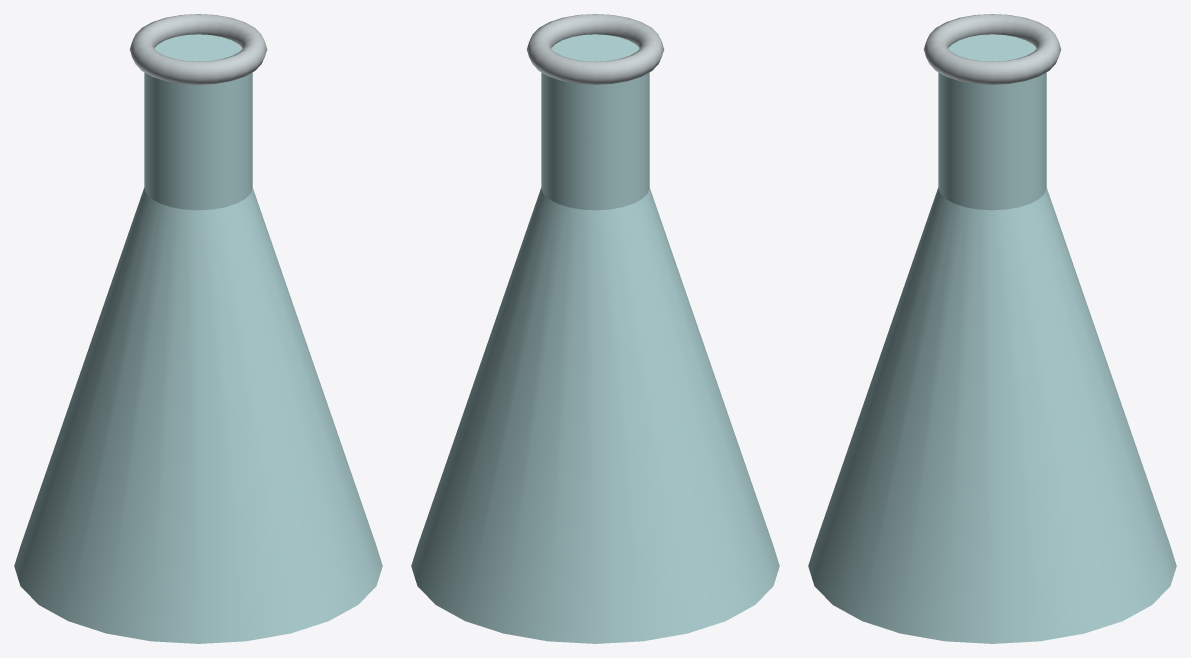
Rendered from Erlenmeyer_Flask.fbx.
The picture shows the model from 3 angles, left to right: view 1: azimuth 30°, elevation 25°; view 2: azimuth 150°, elevation 25°; view 3: azimuth 270°, elevation 25°; orthographic projection.
Parts seen in each view (by area): view 1: Erlenmeyer_Flask_Glass, Erlenmeyer_Flask_Steel; view 2: Erlenmeyer_Flask_Glass, Erlenmeyer_Flask_Steel; view 3: Erlenmeyer_Flask_Glass, Erlenmeyer_Flask_Steel.
Boxes of the visible parts, left/top/right/bottom form: Erlenmeyer_Flask_Glass: left=14, top=34, right=382, bottom=643; Erlenmeyer_Flask_Steel: left=129, top=14, right=267, bottom=84; Erlenmeyer_Flask_Glass: left=411, top=34, right=779, bottom=643; Erlenmeyer_Flask_Steel: left=526, top=14, right=664, bottom=84; Erlenmeyer_Flask_Glass: left=808, top=34, right=1176, bottom=643; Erlenmeyer_Flask_Steel: left=923, top=14, right=1061, bottom=84.
Bounding box in the file's own units: 15 × 23.7 × 15.
